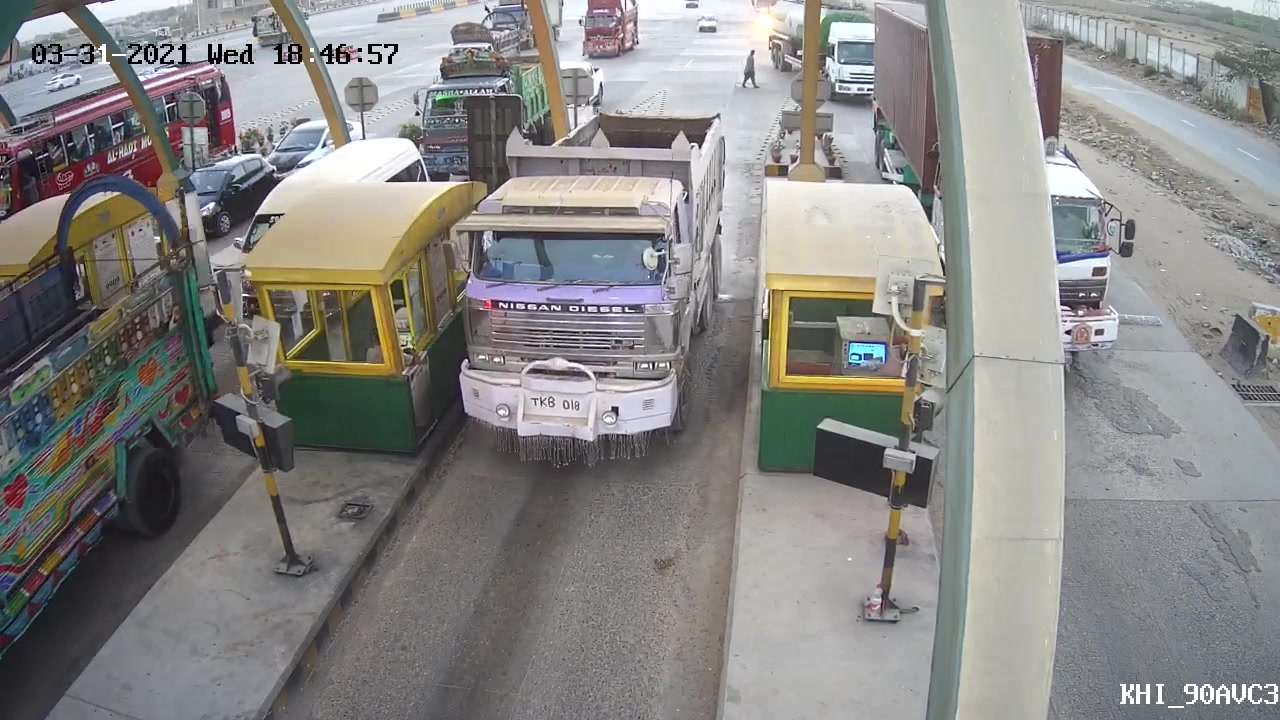F5: (449, 106, 740, 469)
